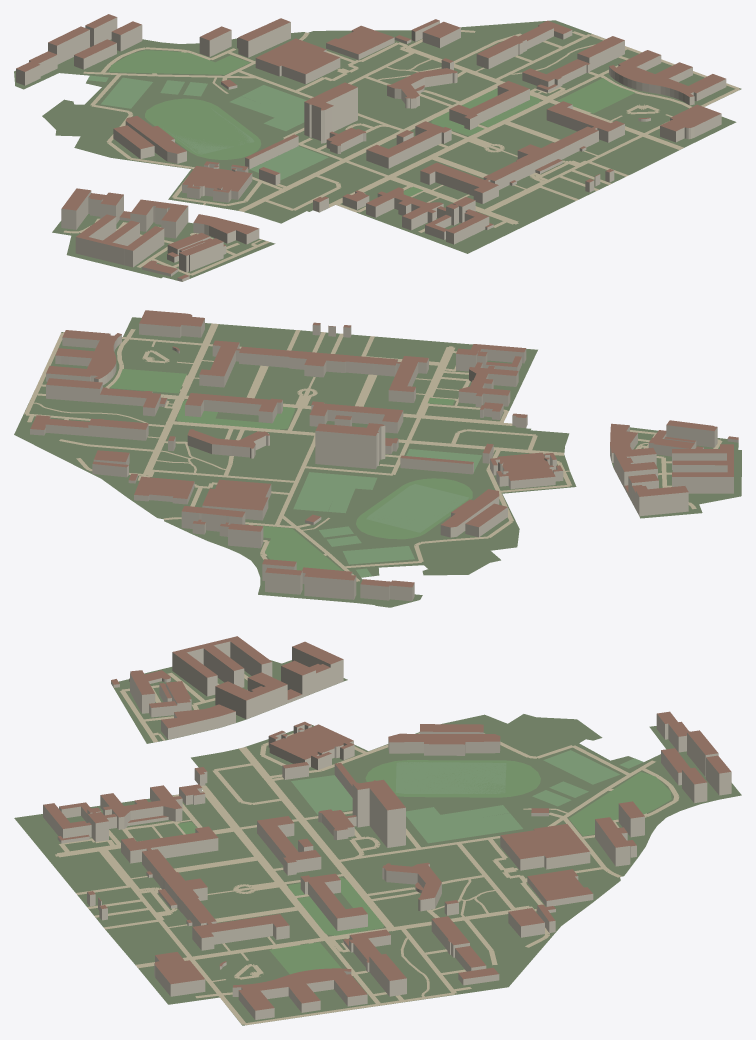
3 renders of one model, top to bottom at view 1: azimuth 30°, elevation 25°; view 2: azimuth 150°, elevation 25°; view 3: azimuth 270°, elevation 25°, orthographic. The views are drawn at different scales.
Visible parts, largest first — view 1: campus-ground, buildings, environment (×3), roofs; view 2: campus-ground, buildings, environment (×3), roofs; view 3: campus-ground, environment (×3), buildings, roofs.
Boxes of the visible parts, x1,y1,x2,y2 form: campus-ground: [14, 20, 741, 281]; buildings: [16, 17, 726, 281]; environment (×3): [63, 30, 739, 275]; roofs: [16, 14, 725, 278]; campus-ground: [14, 317, 741, 607]; buildings: [30, 318, 738, 601]; environment (×3): [24, 323, 722, 581]; roofs: [30, 310, 738, 587]; campus-ground: [14, 660, 741, 1025]; environment (×3): [55, 672, 679, 1025]; buildings: [43, 641, 731, 1019]; roofs: [43, 636, 731, 1010].
Size of the model in its own units: 847 by 39.8 by 695.
